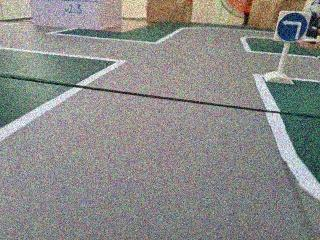left: (270, 7, 315, 47)
